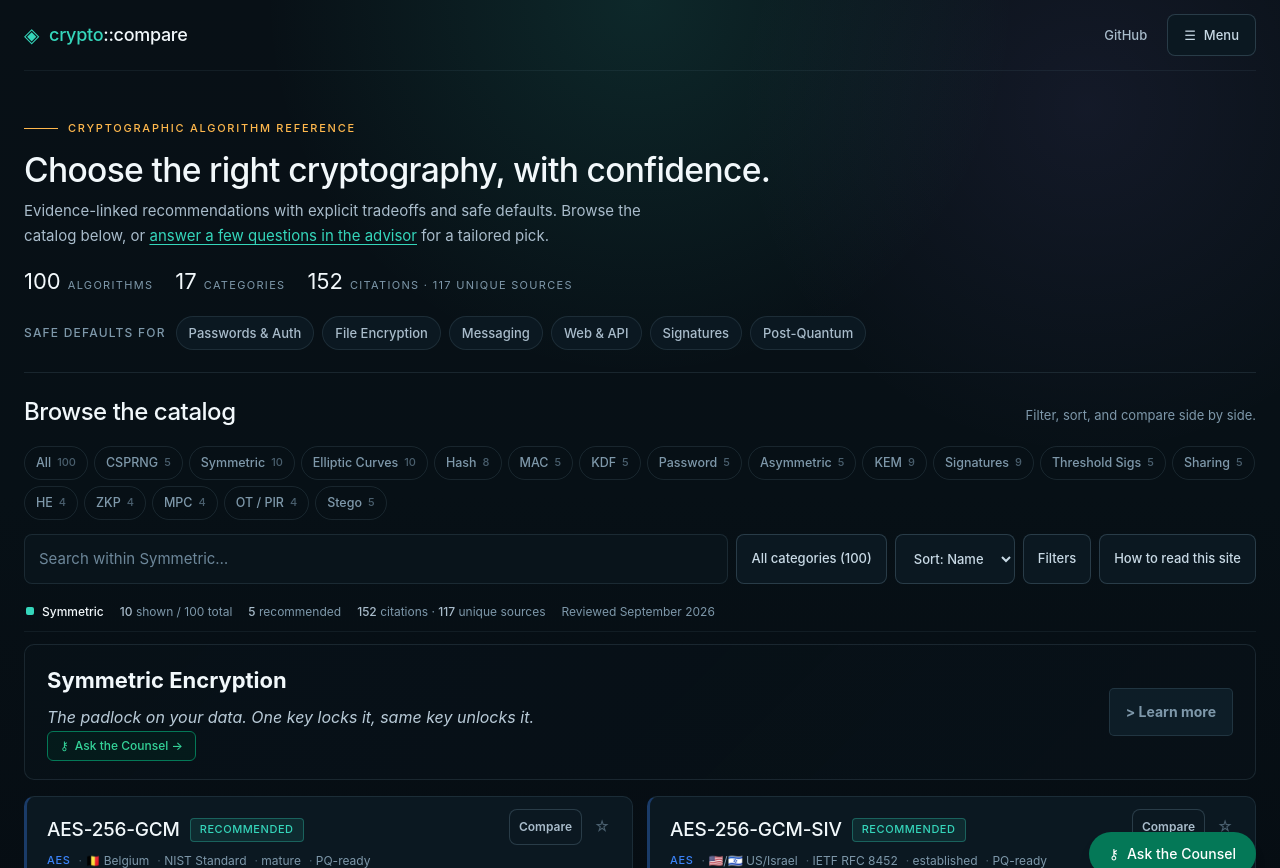
Scenario: category explainer focus and disclosure state › resets every inner disclosure on category change without taking navigation focus
This screenshot has width=1280, height=868.
Click the button with aria-label "Learn more — expand" at (1171, 712), box x1=1109 y1=688 x2=1233 y2=736
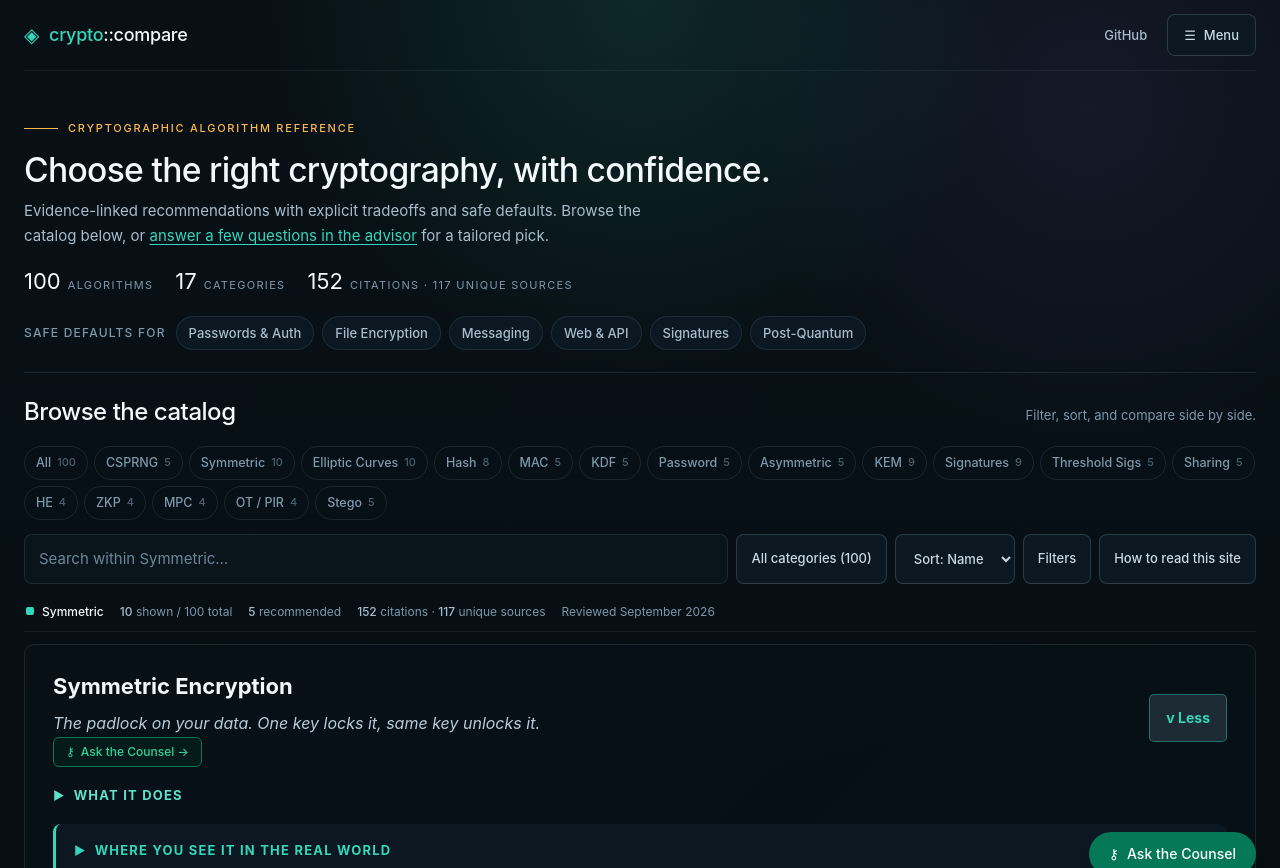
Click the button with aria-label "Expand What it does" at (128, 795), box x1=53 y1=785 x2=1227 y2=806
(page scrolled)
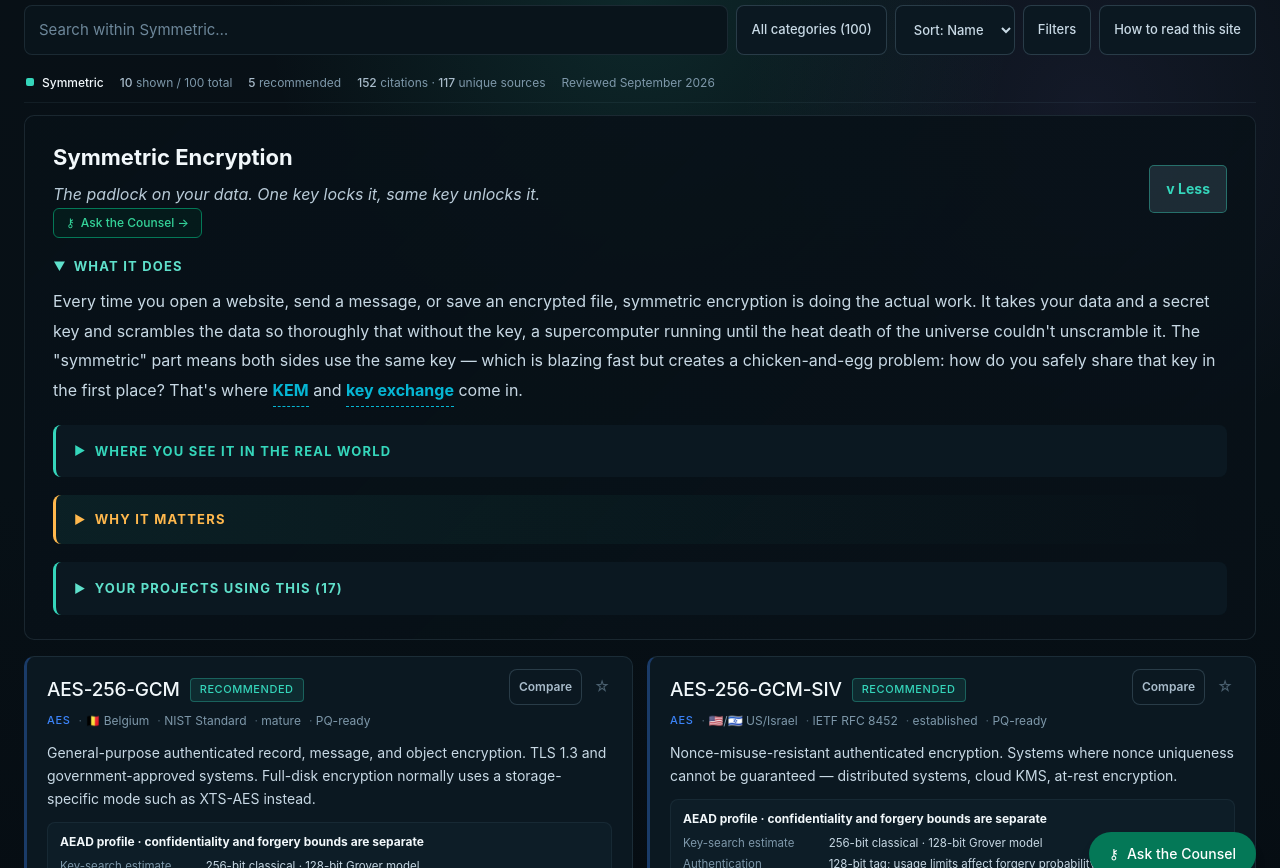
Click the button "▶ Where you see it in the real world" at (243, 451), box x1=74 y1=440 x2=1209 y2=461
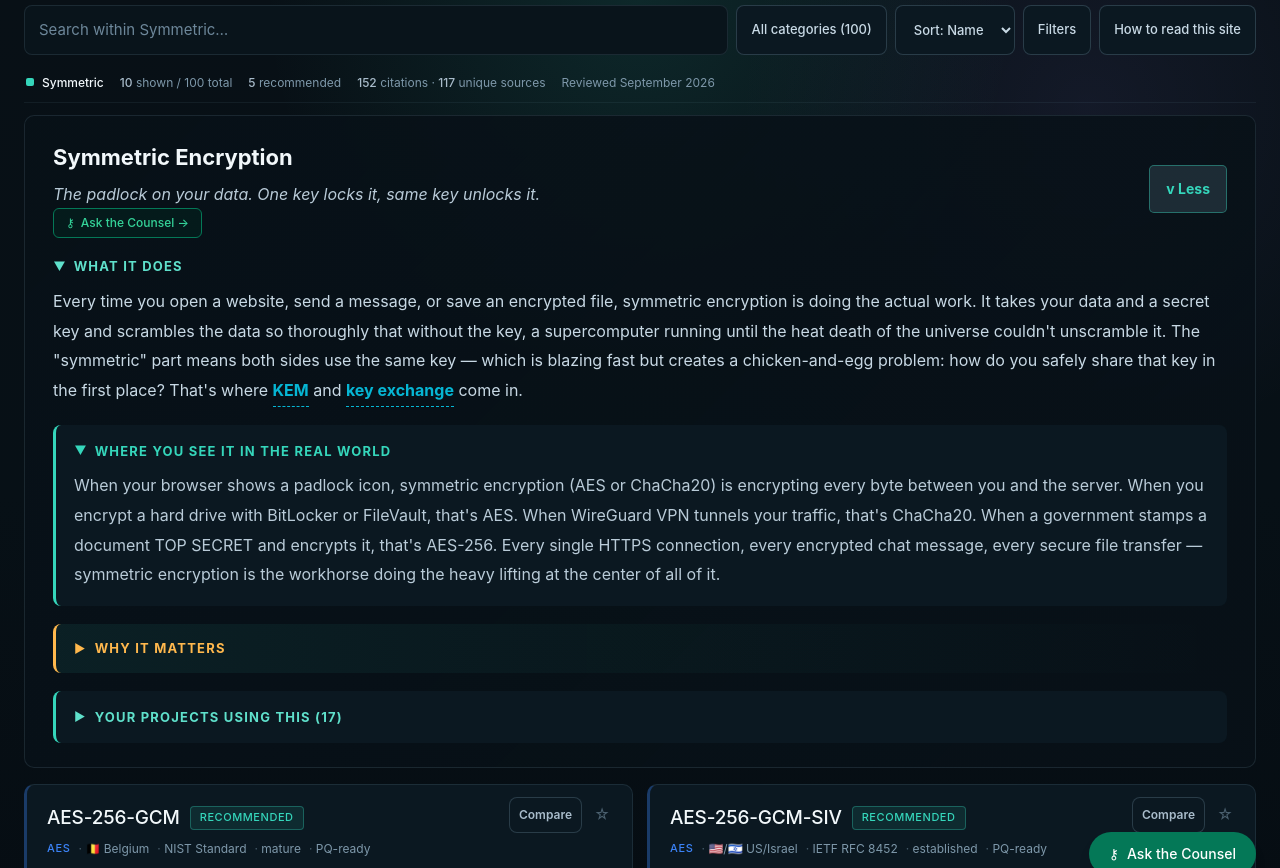
Click the button "▶ Why it matters" at (160, 648), box x1=74 y1=638 x2=1209 y2=658
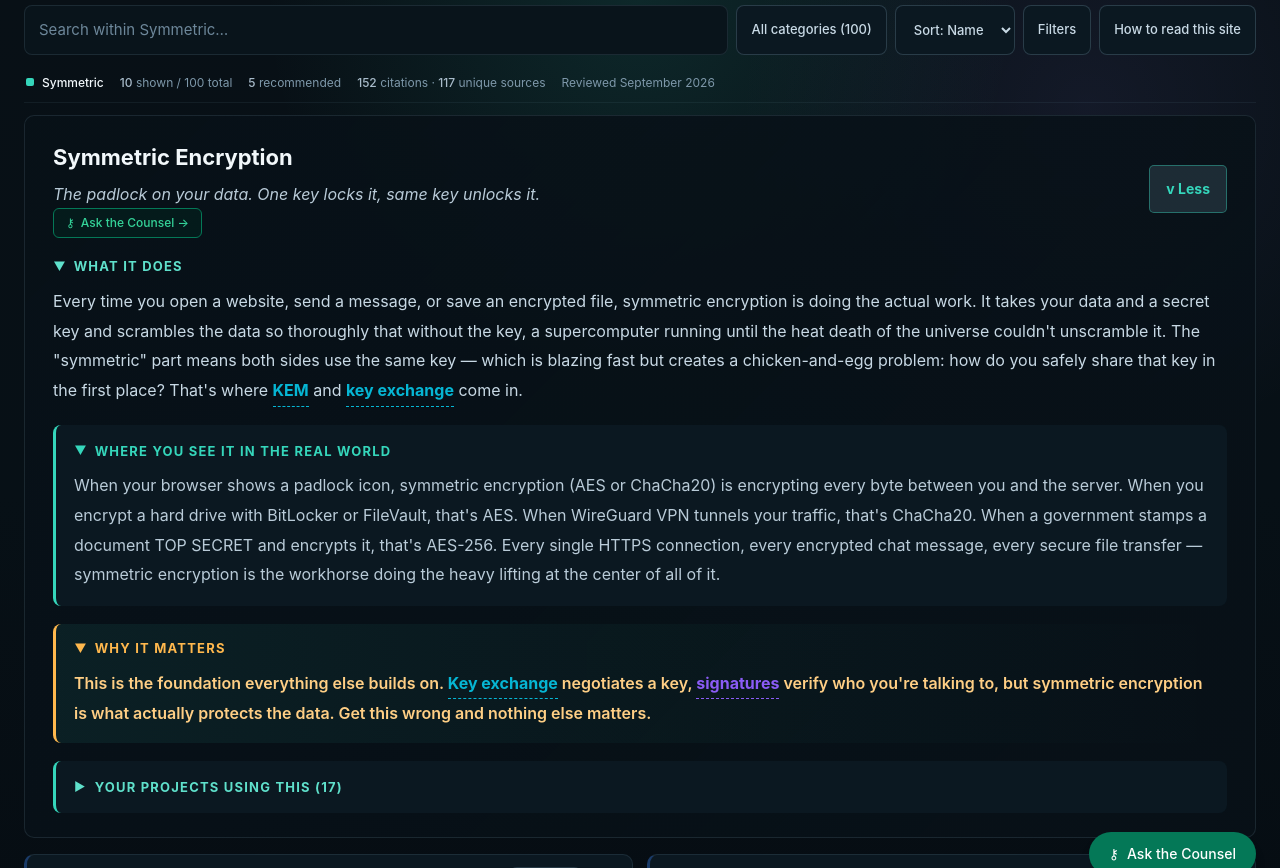
Click the button with aria-label "Expand projects" at (219, 787), box x1=74 y1=777 x2=1209 y2=798
(page scrolled)
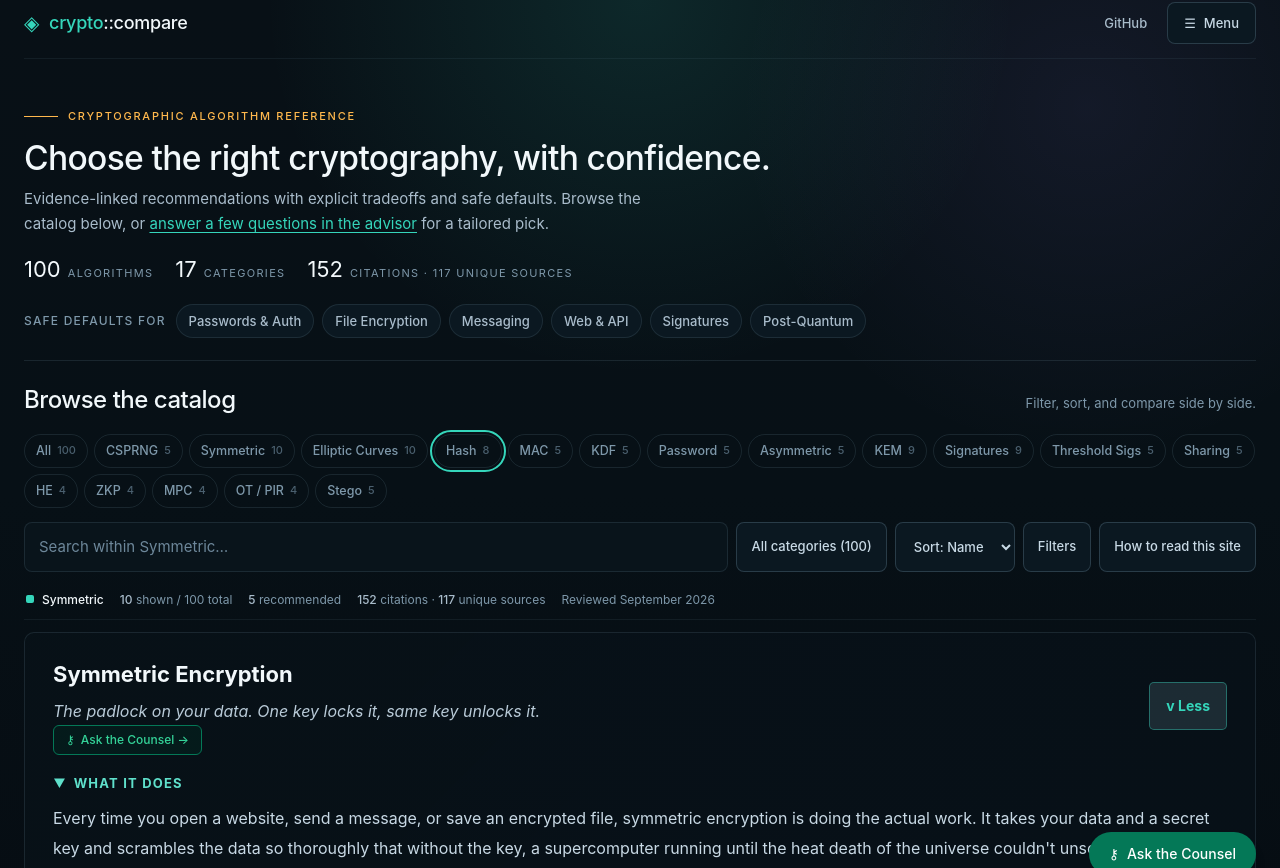
Click the button "Hash 8" at (468, 451), box x1=434 y1=434 x2=502 y2=468
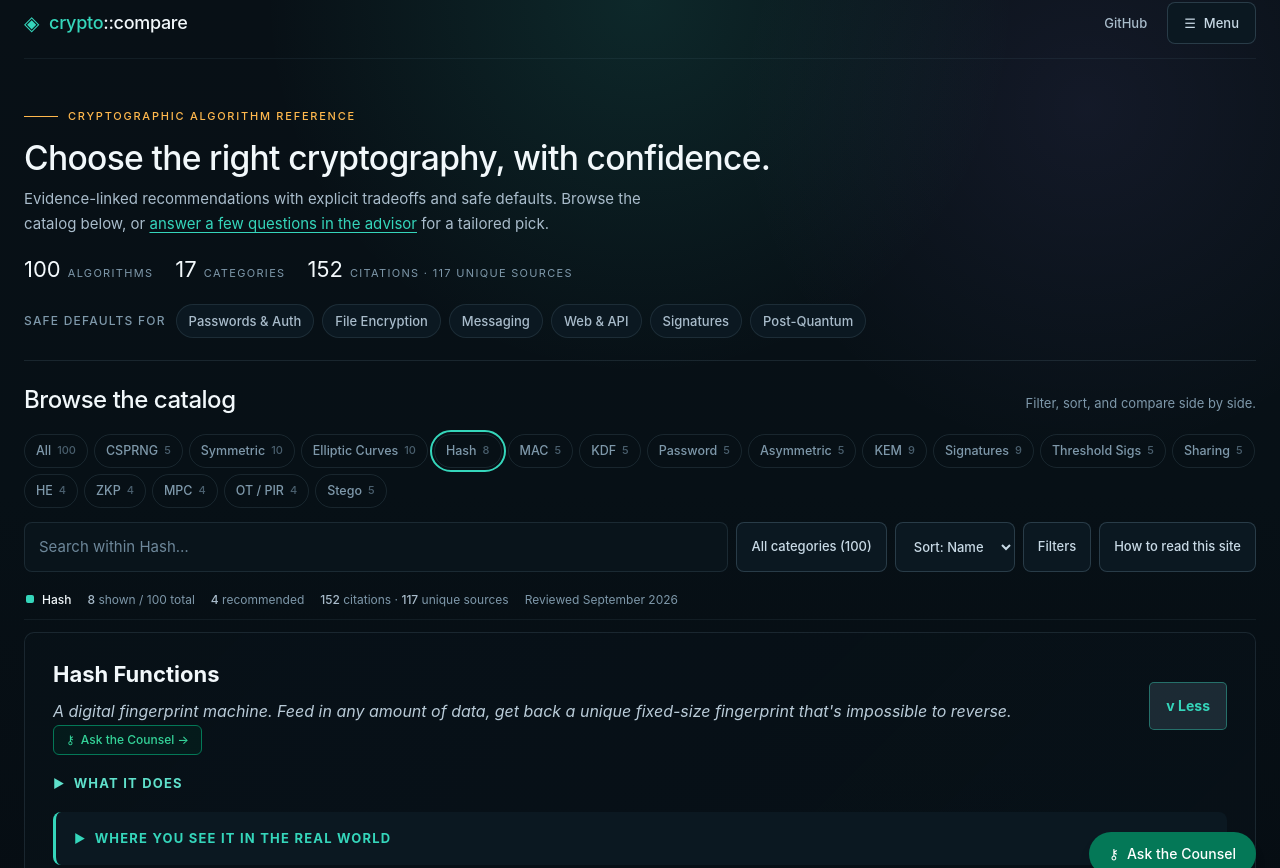
expect the button with aria-label "Expand What it does" is collapsed: met, box x1=53 y1=773 x2=1227 y2=794
